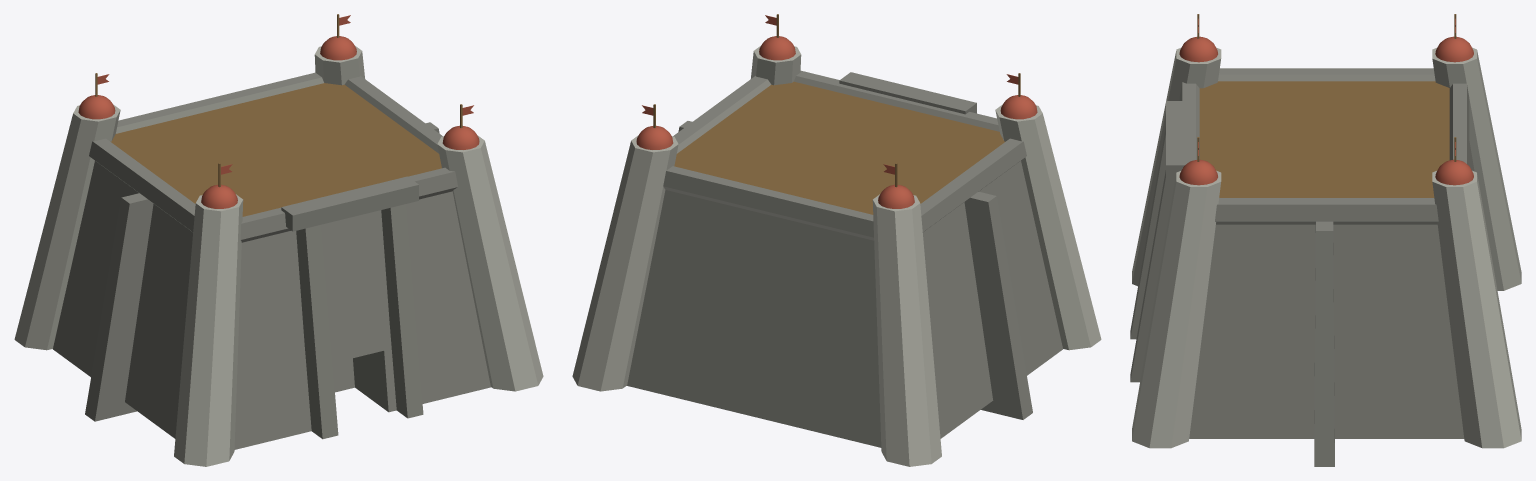
The model's file is quaternius-real-time-strategy-wonder-second-age-level-1.glb.
3 views of the same model, side by side, from view 1: azimuth 30°, elevation 25°; view 2: azimuth 150°, elevation 25°; view 3: azimuth 270°, elevation 25° (orthographic). The views are drawn at different scales.
Visible parts, largest first — view 1: Wonder_SecondAge_Level1; view 2: Wonder_SecondAge_Level1; view 3: Wonder_SecondAge_Level1.
Boxes of the visible parts, x1,y1,x2,y2 form: Wonder_SecondAge_Level1: [14, 14, 543, 466]; Wonder_SecondAge_Level1: [572, 14, 1101, 466]; Wonder_SecondAge_Level1: [1130, 14, 1521, 466].
Size of the model in its own units: 1.46 by 1.03 by 1.24.
